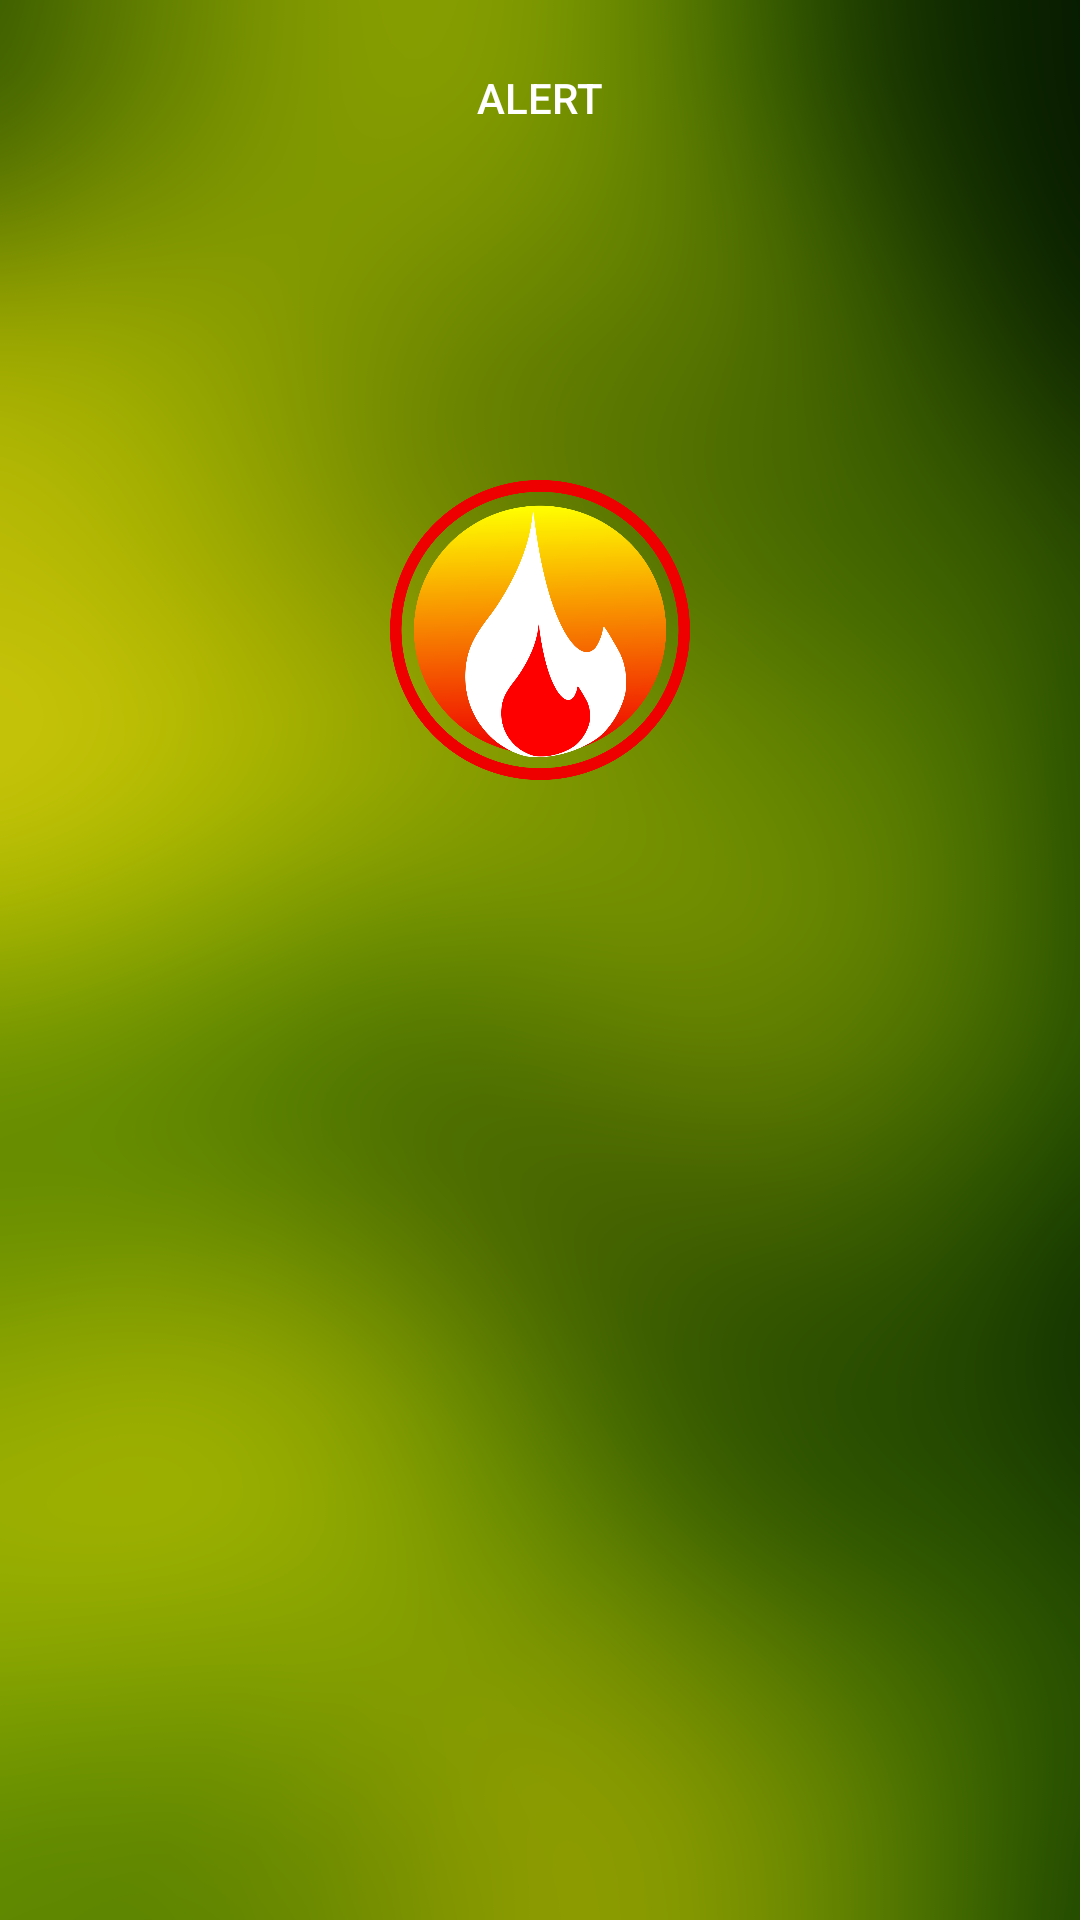

Screen size 1080 × 1920. Icon name, then its center in pixels as point (x, y):
blazeapp: point (540, 630)
